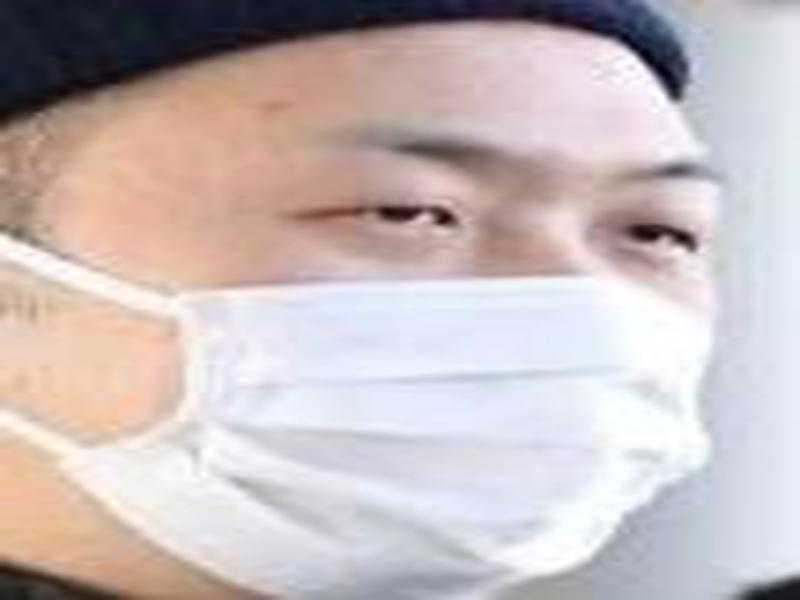with_mask: (1, 20, 724, 600)
